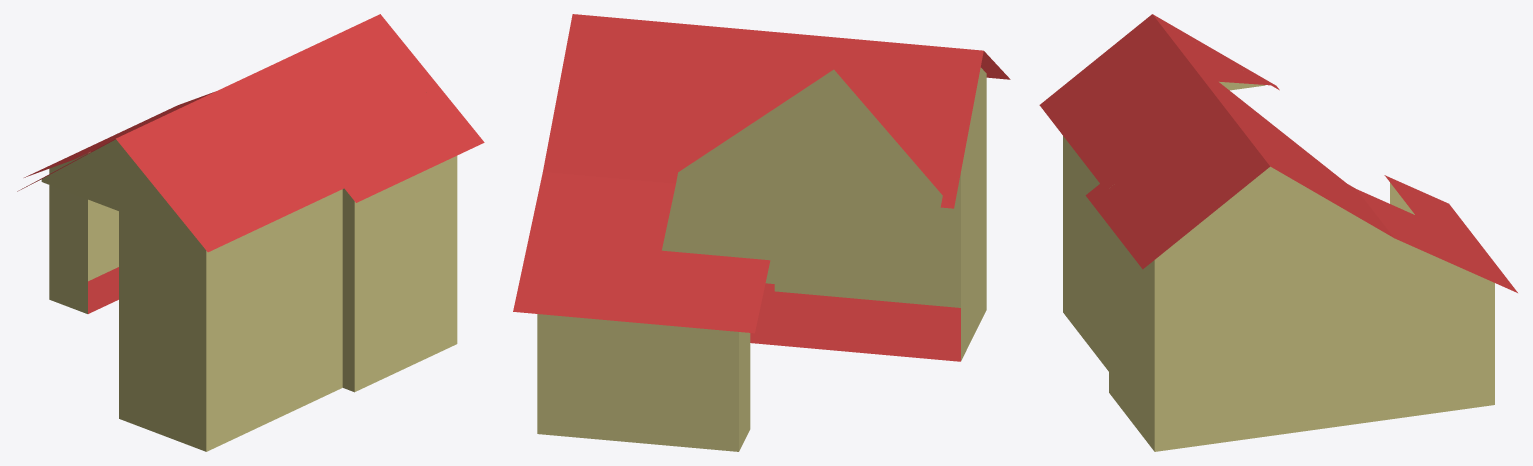
3 views of the same model, side by side, from view 1: azimuth 30°, elevation 25°; view 2: azimuth 150°, elevation 25°; view 3: azimuth 270°, elevation 25° (orthographic). The views are drawn at different scales.
Bounding box in the file's own units: 17.85 × 19.29 × 12.34.
